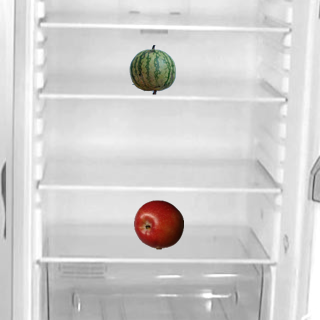Apple Braeburn: (133, 199, 183, 249)
Watermelon: (127, 44, 177, 94)
